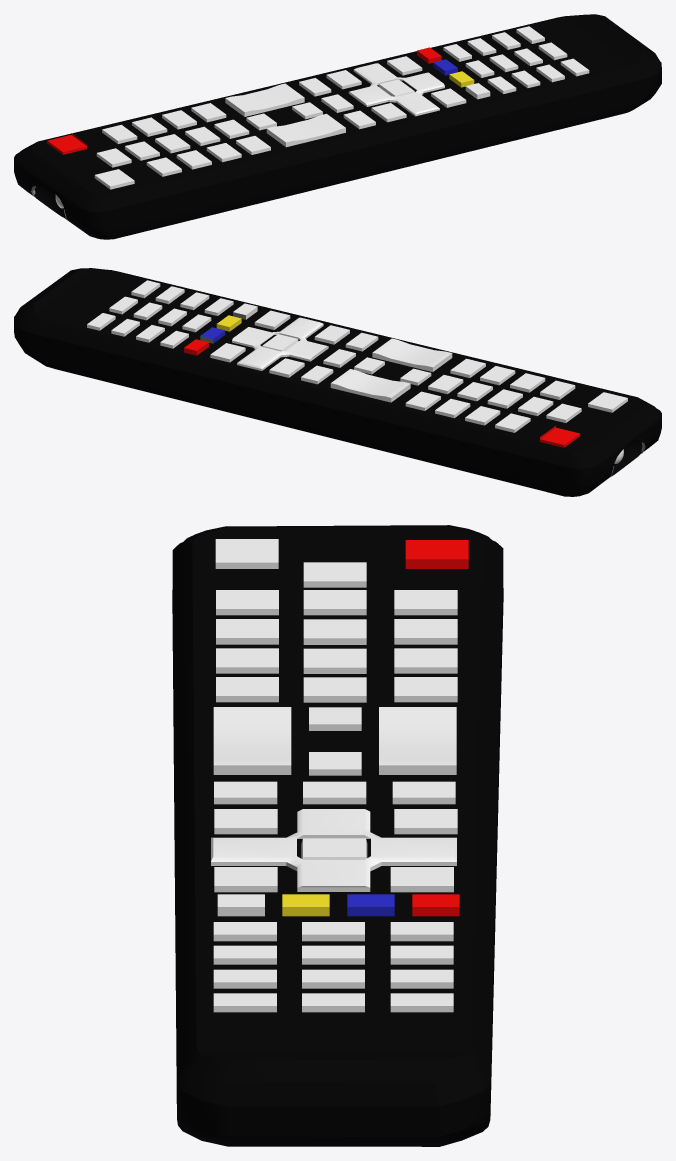
Rendered from controlremoto.obj.
3 views of the same model, one above another, from view 1: azimuth 30°, elevation 25°; view 2: azimuth 150°, elevation 25°; view 3: azimuth 270°, elevation 25° (orthographic). The views are drawn at different scales.
Visible parts, largest first — view 1: remote:Mesh group2 polySurface252, remote:Mesh group2 polySurface245, remote:Mesh polySurface253 group2, remote:Mesh polySurface217, remote:Mesh polySurface209, remote:Mesh polySurface214, remote:Mesh polySurface247, remote:Mesh polySurface47, remote:Mesh polySurface42; view 2: remote:Mesh group2 polySurface252, remote:Mesh group2 polySurface245, remote:Mesh polySurface253 group2, remote:Mesh polySurface217, remote:Mesh polySurface214, remote:Mesh polySurface209, remote:Mesh polySurface247, remote:Mesh polySurface47, remote:Mesh polySurface42; view 3: remote:Mesh group2 polySurface252, remote:Mesh polySurface253 group2, remote:Mesh group2 polySurface245, remote:Mesh polySurface217, remote:Mesh polySurface214, remote:Mesh polySurface209, remote:Mesh polySurface47, remote:Mesh polySurface37, remote:Mesh polySurface62, remote:Mesh polySurface67, remote:Mesh polySurface27, remote:Mesh polySurface42 (+25 smaller).
Boxes of the visible parts, bbox=[...] form: remote:Mesh group2 polySurface252: bbox=[31, 15, 641, 194]; remote:Mesh group2 polySurface245: bbox=[14, 62, 661, 239]; remote:Mesh polySurface253 group2: bbox=[14, 14, 661, 212]; remote:Mesh polySurface217: bbox=[350, 63, 444, 113]; remote:Mesh polySurface209: bbox=[225, 83, 304, 111]; remote:Mesh polySurface214: bbox=[267, 113, 345, 142]; remote:Mesh polySurface247: bbox=[32, 182, 64, 216]; remote:Mesh polySurface47: bbox=[95, 169, 133, 186]; remote:Mesh polySurface42: bbox=[47, 135, 86, 151]; remote:Mesh group2 polySurface252: bbox=[33, 268, 644, 451]; remote:Mesh group2 polySurface245: bbox=[14, 316, 661, 496]; remote:Mesh polySurface253 group2: bbox=[14, 268, 661, 469]; remote:Mesh polySurface217: bbox=[232, 317, 327, 368]; remote:Mesh polySurface214: bbox=[373, 338, 451, 367]; remote:Mesh polySurface209: bbox=[331, 369, 410, 397]; remote:Mesh polySurface247: bbox=[612, 439, 641, 475]; remote:Mesh polySurface47: bbox=[588, 392, 627, 409]; remote:Mesh polySurface42: bbox=[540, 427, 579, 444]; remote:Mesh group2 polySurface252: bbox=[192, 526, 482, 1059]; remote:Mesh polySurface253 group2: bbox=[172, 525, 503, 1106]; remote:Mesh group2 polySurface245: bbox=[172, 538, 503, 1146]; remote:Mesh polySurface217: bbox=[211, 809, 456, 887]; remote:Mesh polySurface214: bbox=[213, 707, 291, 765]; remote:Mesh polySurface209: bbox=[379, 707, 456, 765]; remote:Mesh polySurface47: bbox=[215, 539, 278, 562]; remote:Mesh polySurface37: bbox=[394, 648, 457, 667]; remote:Mesh polySurface62: bbox=[303, 619, 366, 638]; remote:Mesh polySurface67: bbox=[303, 562, 366, 581]; remote:Mesh polySurface27: bbox=[303, 648, 366, 667]; remote:Mesh polySurface42: bbox=[405, 540, 468, 559].
Bounding box in the file's own units: 7.86 × 0.6009 × 1.92.
Materials: 6 (5 with a texture image).
